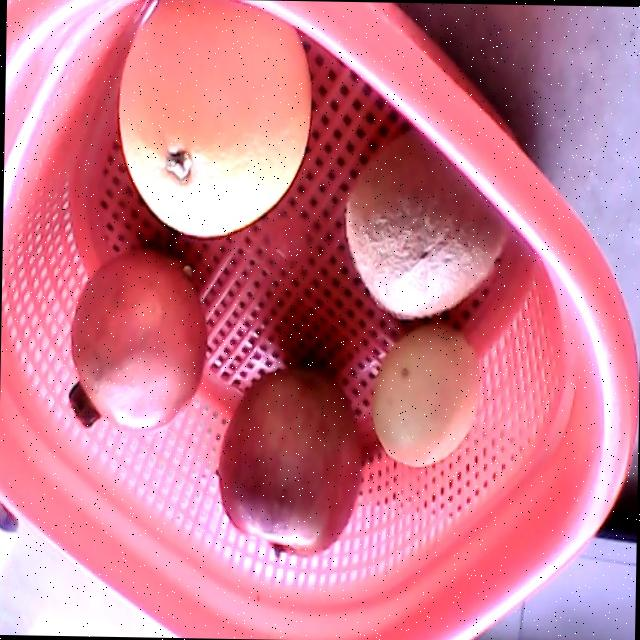apple: (215, 366, 363, 555)
kiwi: (344, 125, 510, 316)
lemon: (371, 322, 481, 466)
orange: (118, 0, 310, 237)
pomegranate: (67, 246, 206, 431)
